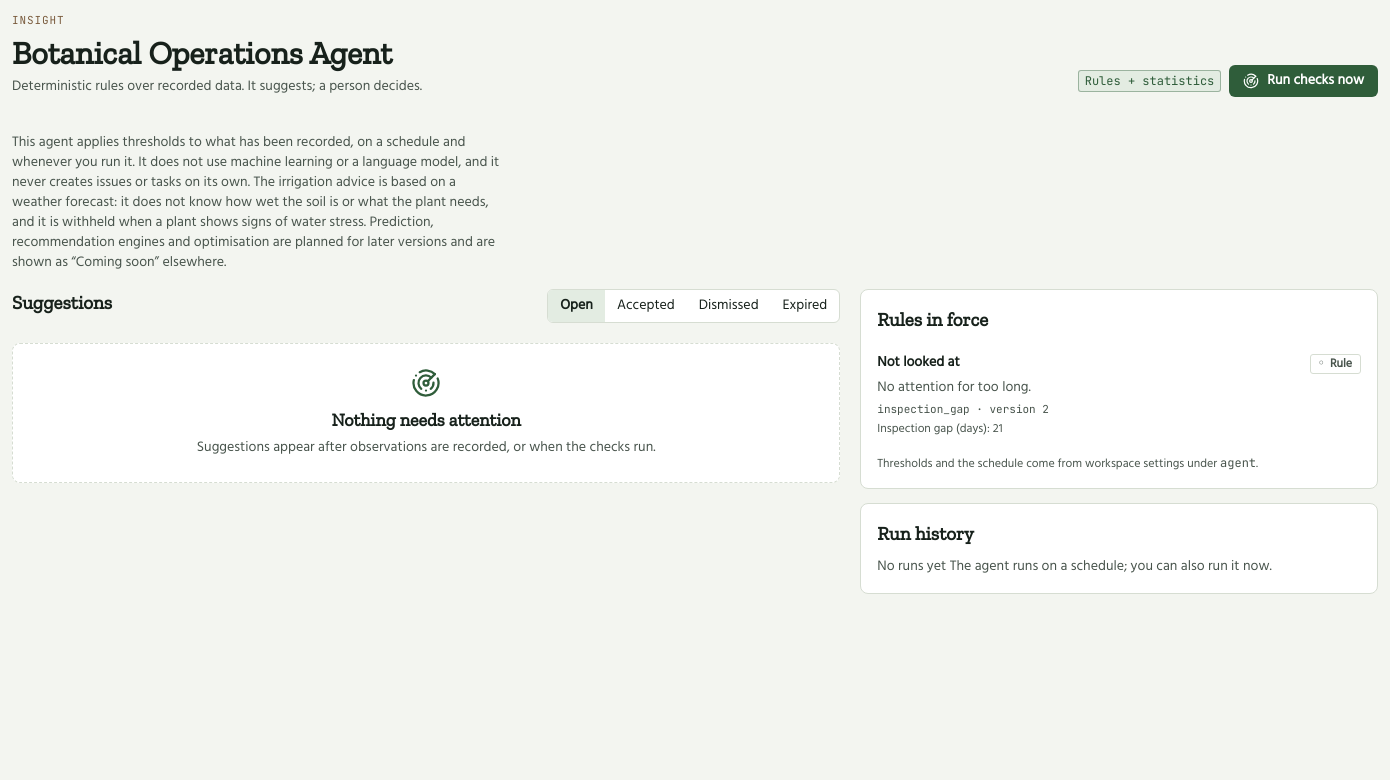
agent page › switches the suggestion list between open, accepted, dismissed and expired
The width and height of the screenshot is (1390, 780).
Click the button "Expired": (805, 306) [771, 290, 839, 322]
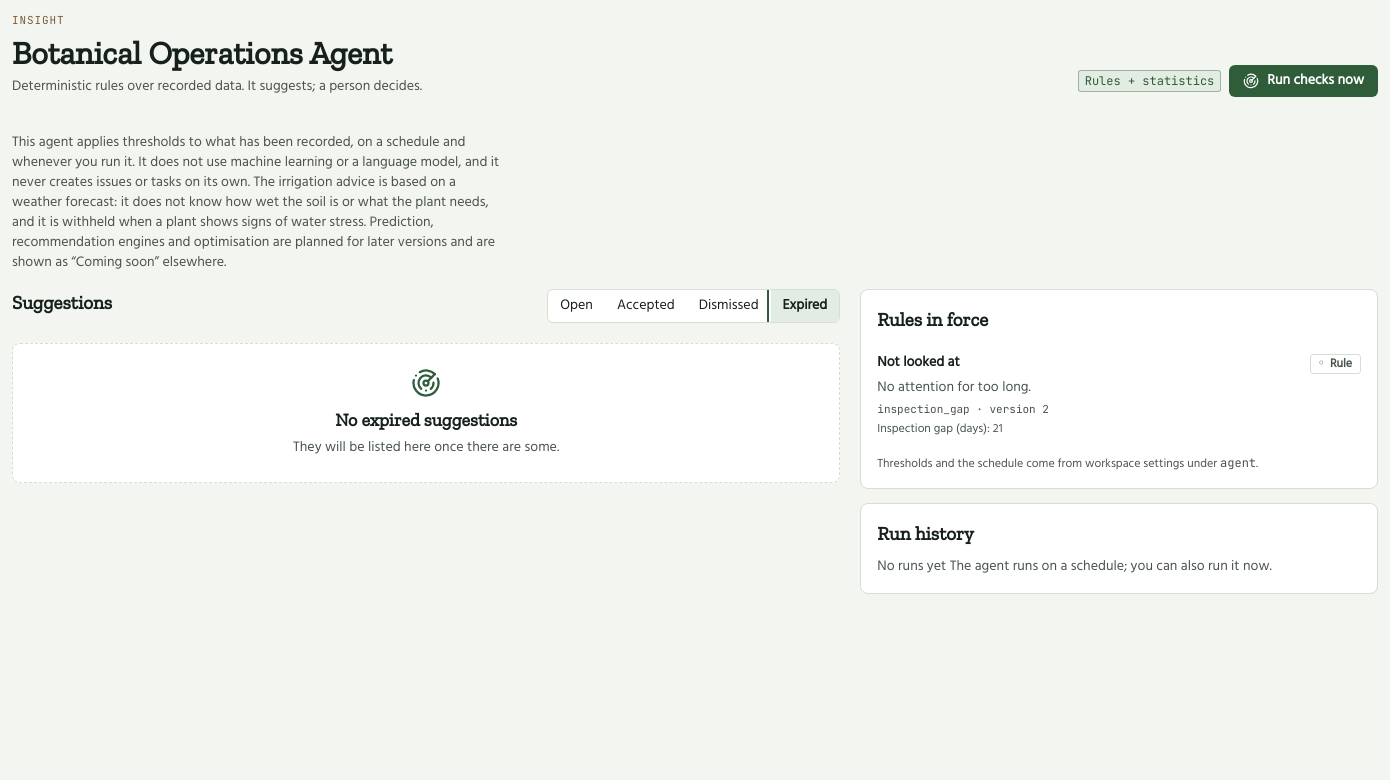
Expected: the text "No expired suggestions" is shown, [335, 408, 517, 430]
